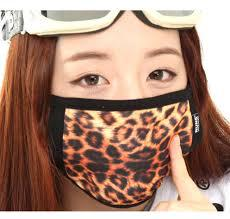OK: (44, 45, 199, 200)
